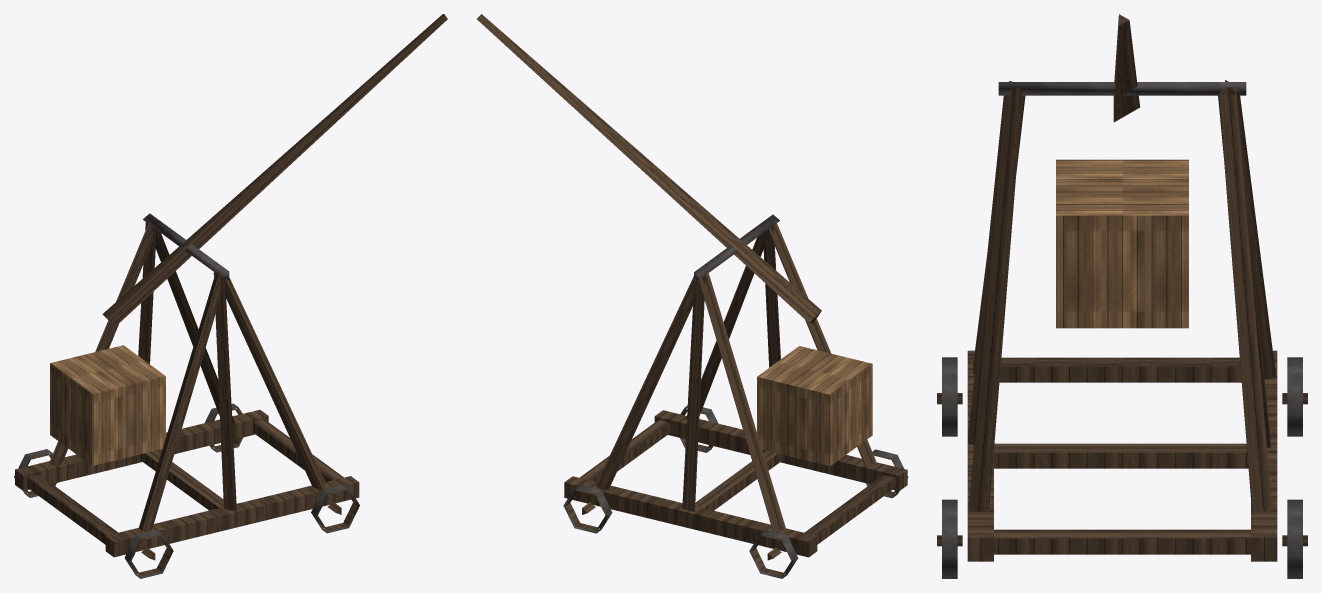
Rendered from Trebuchet_1_LOD2.gltf.
The picture shows the model from 3 angles, left to right: view 1: azimuth 30°, elevation 25°; view 2: azimuth 150°, elevation 25°; view 3: azimuth 270°, elevation 25°; orthographic projection. The views are drawn at different scales.
Parts seen in each view (by area): view 1: Trebuchet_1_LOD2; view 2: Trebuchet_1_LOD2; view 3: Trebuchet_1_LOD2.
Part boxes in pixels (left/top/right/bottom): Trebuchet_1_LOD2: left=14, top=14, right=447, bottom=578; Trebuchet_1_LOD2: left=477, top=14, right=908, bottom=578; Trebuchet_1_LOD2: left=937, top=14, right=1307, bottom=578.
Bounding box in the file's own units: 7.79 × 8.48 × 4.19.
Materials: 3 (3 with a texture image).
